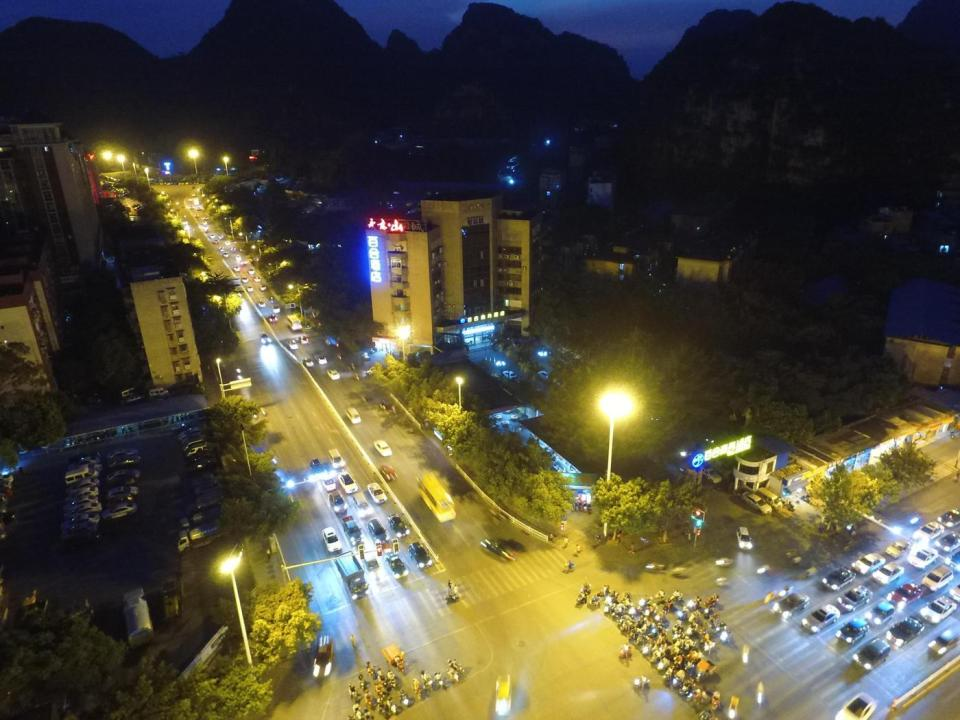bus: (416, 472, 456, 522), (373, 440, 392, 458), (285, 314, 301, 330)
car: (852, 637, 892, 671), (802, 603, 840, 634), (837, 692, 879, 720), (920, 594, 957, 624), (481, 537, 524, 562), (836, 584, 874, 612), (886, 582, 924, 610), (886, 616, 923, 644), (772, 590, 809, 618), (834, 616, 869, 644), (59, 526, 101, 548), (821, 566, 856, 592), (312, 634, 332, 678), (928, 630, 960, 656), (57, 512, 100, 531), (741, 489, 770, 516), (851, 552, 885, 575), (911, 521, 945, 543), (872, 562, 905, 584), (494, 673, 510, 716), (384, 551, 407, 579), (696, 459, 722, 483), (409, 542, 431, 570), (866, 603, 894, 625), (367, 518, 389, 544), (935, 530, 960, 551), (322, 526, 342, 552), (911, 546, 937, 566), (105, 503, 135, 520), (366, 482, 388, 505), (328, 489, 348, 514), (388, 513, 408, 538), (105, 485, 138, 500), (64, 494, 99, 508), (337, 471, 358, 494), (936, 507, 960, 527), (886, 539, 911, 558), (63, 502, 102, 514), (105, 494, 134, 510), (70, 452, 101, 466), (109, 455, 139, 469), (70, 478, 99, 492), (110, 468, 139, 482), (66, 486, 100, 497), (105, 448, 138, 459), (178, 426, 202, 441), (107, 476, 136, 488), (380, 464, 396, 480), (322, 475, 336, 492), (310, 459, 324, 474), (313, 354, 327, 365), (326, 370, 341, 380), (502, 370, 517, 380), (260, 332, 271, 344), (303, 356, 313, 368), (538, 369, 550, 379), (288, 339, 298, 350), (269, 314, 278, 323), (241, 276, 249, 284), (300, 336, 308, 344), (268, 296, 276, 303), (233, 265, 240, 271), (260, 284, 267, 290), (258, 301, 265, 307), (132, 203, 140, 208), (272, 307, 280, 312), (208, 233, 214, 239), (218, 234, 224, 240), (248, 268, 254, 274), (254, 275, 260, 281), (218, 246, 223, 252), (230, 247, 236, 252), (134, 206, 141, 210), (223, 252, 228, 257), (224, 240, 229, 245), (212, 239, 218, 243), (183, 220, 188, 224), (204, 215, 208, 219), (203, 222, 207, 226), (204, 228, 208, 232), (191, 194, 196, 197), (197, 208, 201, 211), (195, 214, 199, 217), (188, 207, 193, 209)
van: (119, 588, 155, 646), (177, 518, 234, 552), (334, 551, 369, 599), (179, 503, 237, 528), (922, 564, 954, 591), (161, 574, 176, 623), (186, 456, 218, 476), (756, 486, 782, 510), (64, 466, 99, 483), (342, 516, 364, 543), (360, 549, 380, 576), (182, 436, 210, 454), (187, 443, 213, 460), (735, 525, 752, 550), (327, 448, 344, 468), (345, 406, 361, 424), (122, 393, 144, 404), (120, 388, 137, 399), (150, 388, 169, 396), (246, 284, 253, 291), (235, 255, 242, 261)
